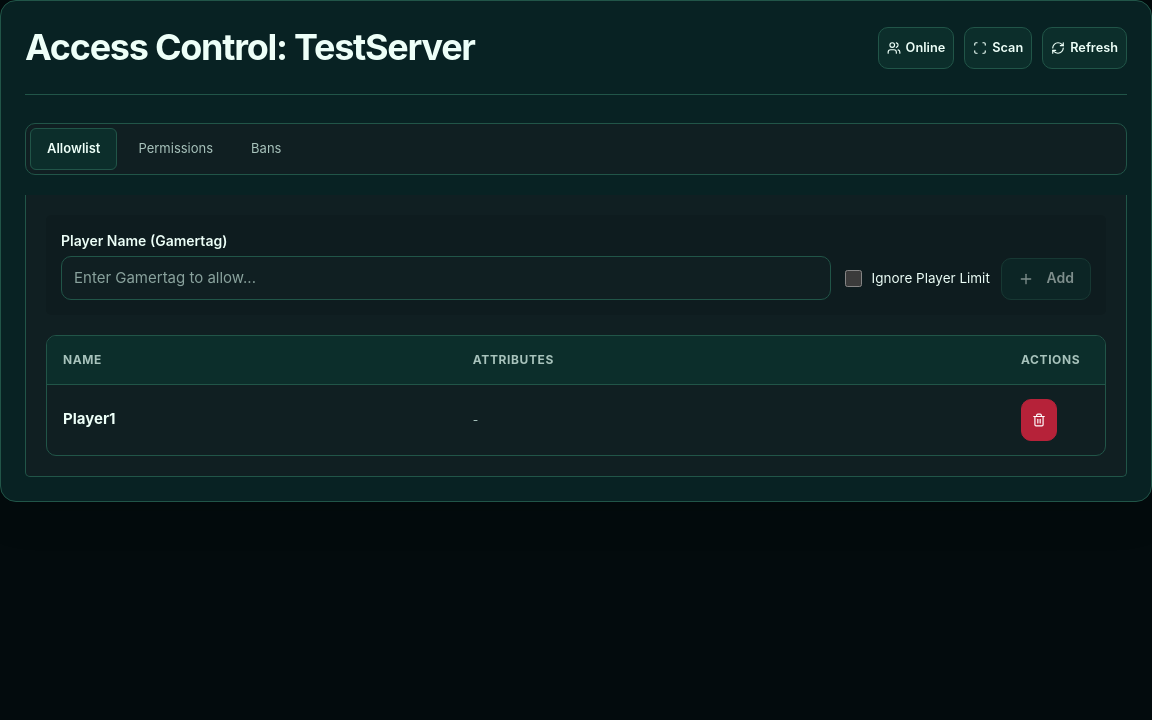
Test: AccessControl › switches to permissions tab
The image size is (1152, 720).
Expected: the text "Player1" is shown, [63,409,116,428]
Step 1. Click the button "Permissions" → (176,149), box [121,128,230,170]
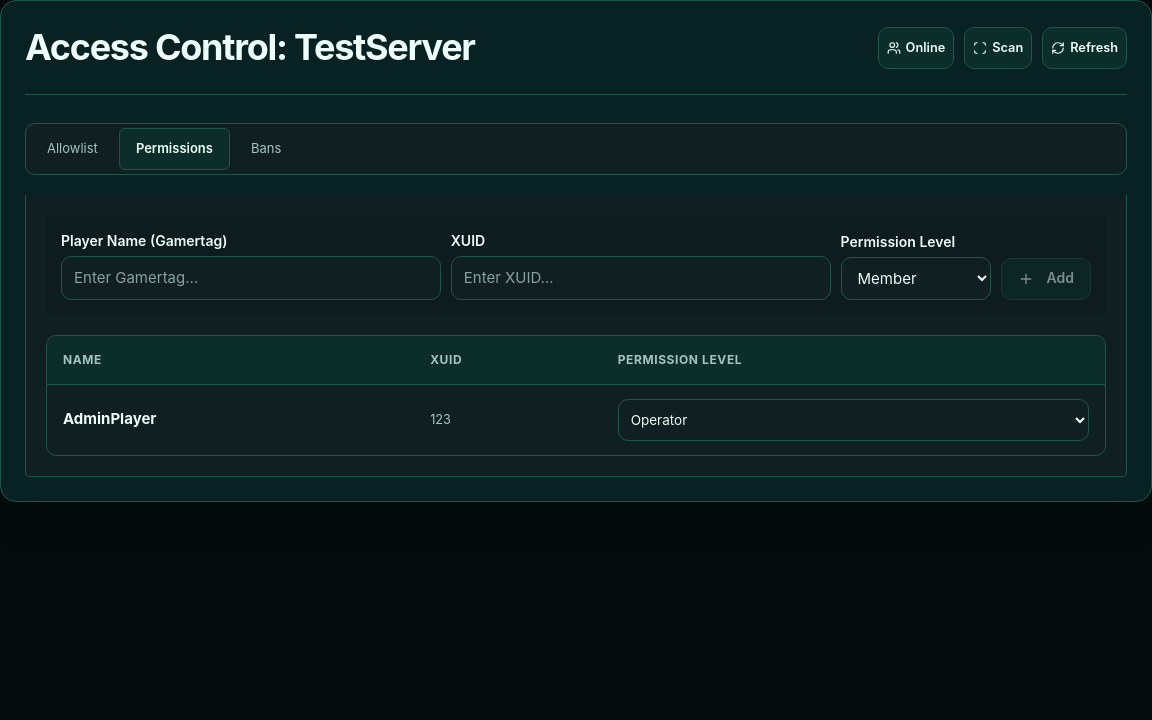
Expected: the text "AdminPlayer" is shown, [63,409,156,428]
